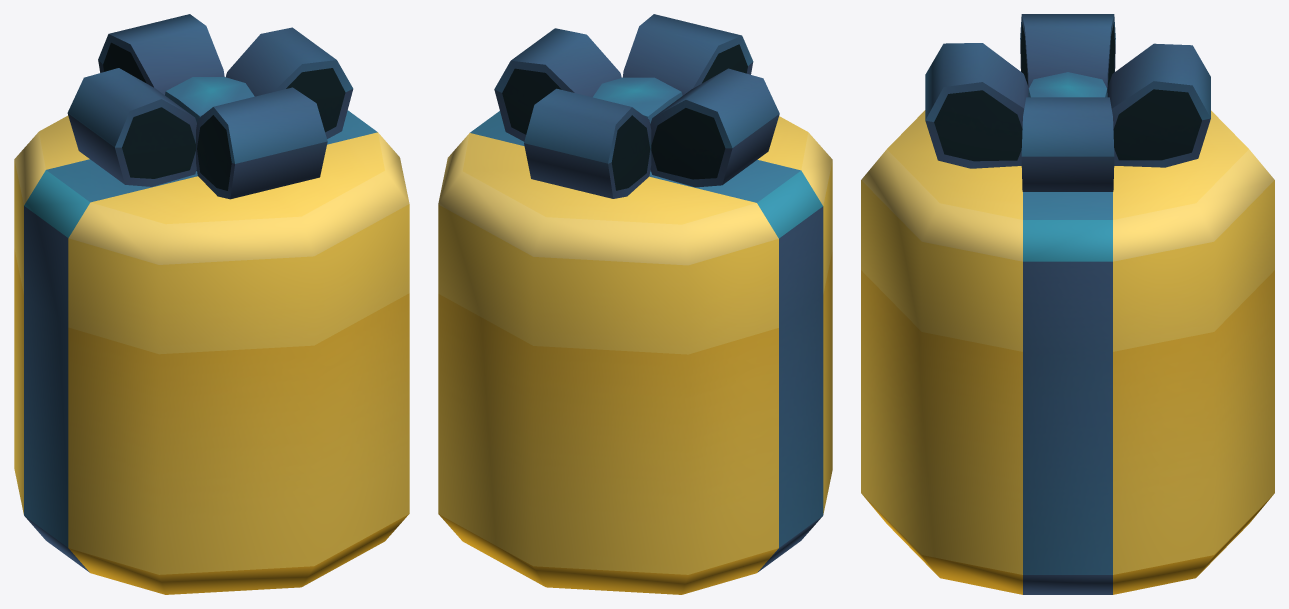
Rendered from presi_round_2_yellow.fbx.
3 views of the same model, side by side, from view 1: azimuth 30°, elevation 25°; view 2: azimuth 150°, elevation 25°; view 3: azimuth 270°, elevation 25° (orthographic).
Visible parts, largest first — view 1: presi_round_2_yellow; view 2: presi_round_2_yellow; view 3: presi_round_2_yellow.
Boxes of the visible parts, x1,y1,x2,y2 form: presi_round_2_yellow: [14, 14, 409, 594]; presi_round_2_yellow: [438, 14, 832, 594]; presi_round_2_yellow: [861, 14, 1274, 594].
Bounding box in the file's own units: 93.59 × 123 × 100.
Materials: 1 (1 with a texture image).
